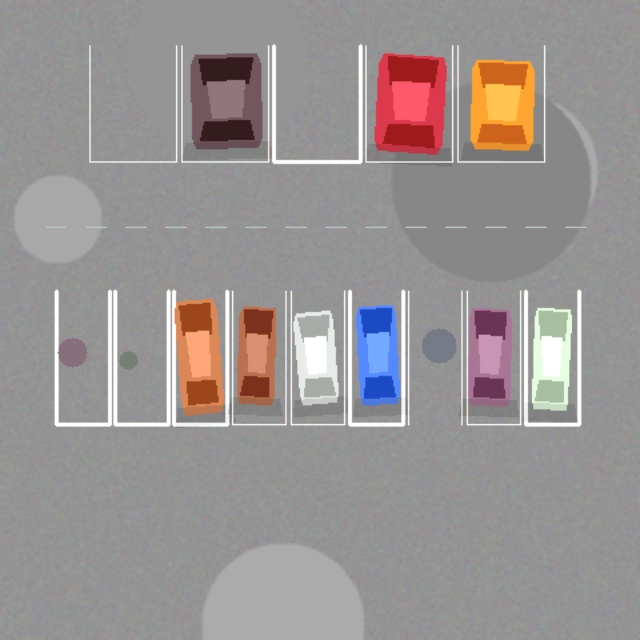space-empty: (89, 45, 176, 161), (273, 45, 360, 161), (56, 291, 109, 424), (115, 291, 168, 424), (408, 291, 461, 424)
space-occupied: (181, 45, 268, 161), (365, 45, 452, 161), (457, 45, 544, 161), (173, 291, 227, 424), (349, 291, 403, 424), (525, 291, 579, 424), (232, 291, 285, 424), (291, 291, 344, 424), (467, 291, 520, 424)
